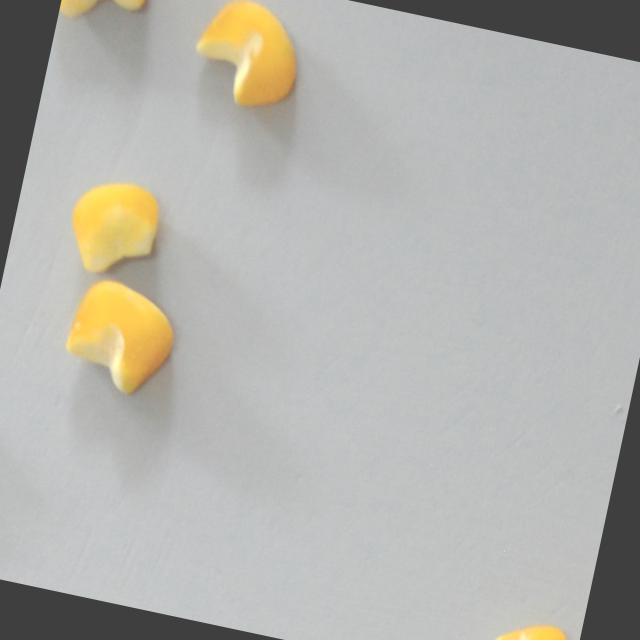no_canjicado: (55, 271, 184, 404), (183, 0, 311, 115), (60, 168, 167, 283), (58, 0, 147, 32), (491, 611, 579, 640)
